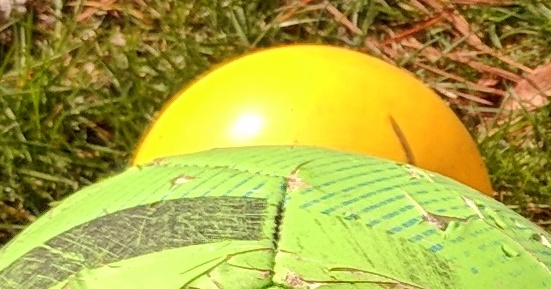ball: (126, 40, 498, 202)
